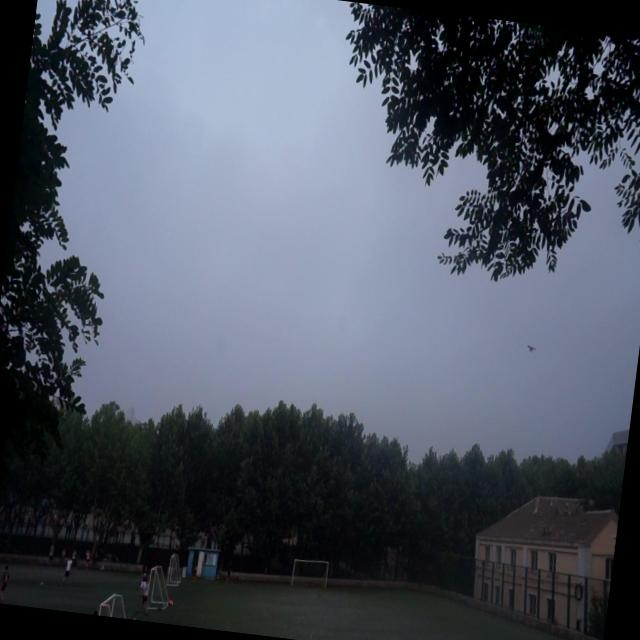drone: (525, 342, 535, 354)
